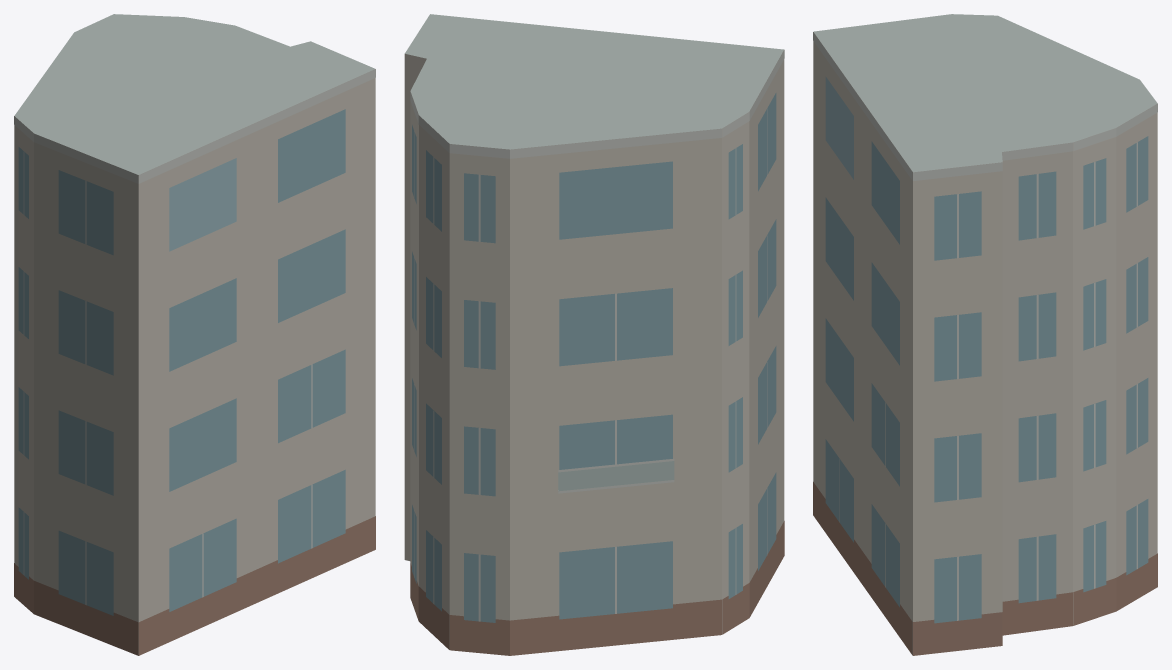
The model's file is survey-upis-32460951.glb.
The picture shows the model from 3 angles, left to right: view 1: azimuth 30°, elevation 25°; view 2: azimuth 150°, elevation 25°; view 3: azimuth 270°, elevation 25°; orthographic projection. The views are drawn at different scales.
Visible parts, largest first — view 1: survey-upis-32460951.tmp; view 2: survey-upis-32460951.tmp; view 3: survey-upis-32460951.tmp.
Part boxes in pixels (x1,y1,x2,y2): survey-upis-32460951.tmp: [14, 14, 375, 655]; survey-upis-32460951.tmp: [404, 14, 784, 655]; survey-upis-32460951.tmp: [813, 14, 1157, 655].
Bounding box in the file's own units: 9.31 × 13.25 × 8.57.
